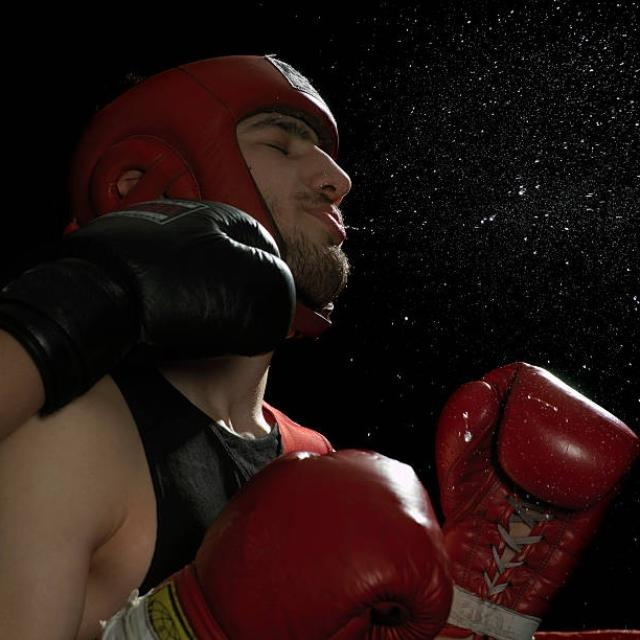Spitting: (67, 58, 401, 383)
